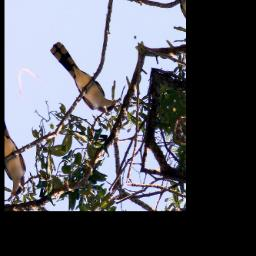Cuckoo: (47, 20, 123, 130)
